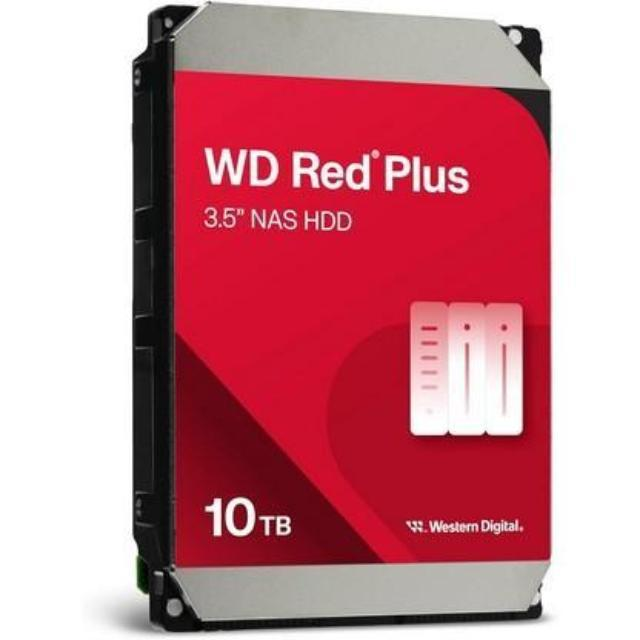DISK: (117, 0, 568, 626)
